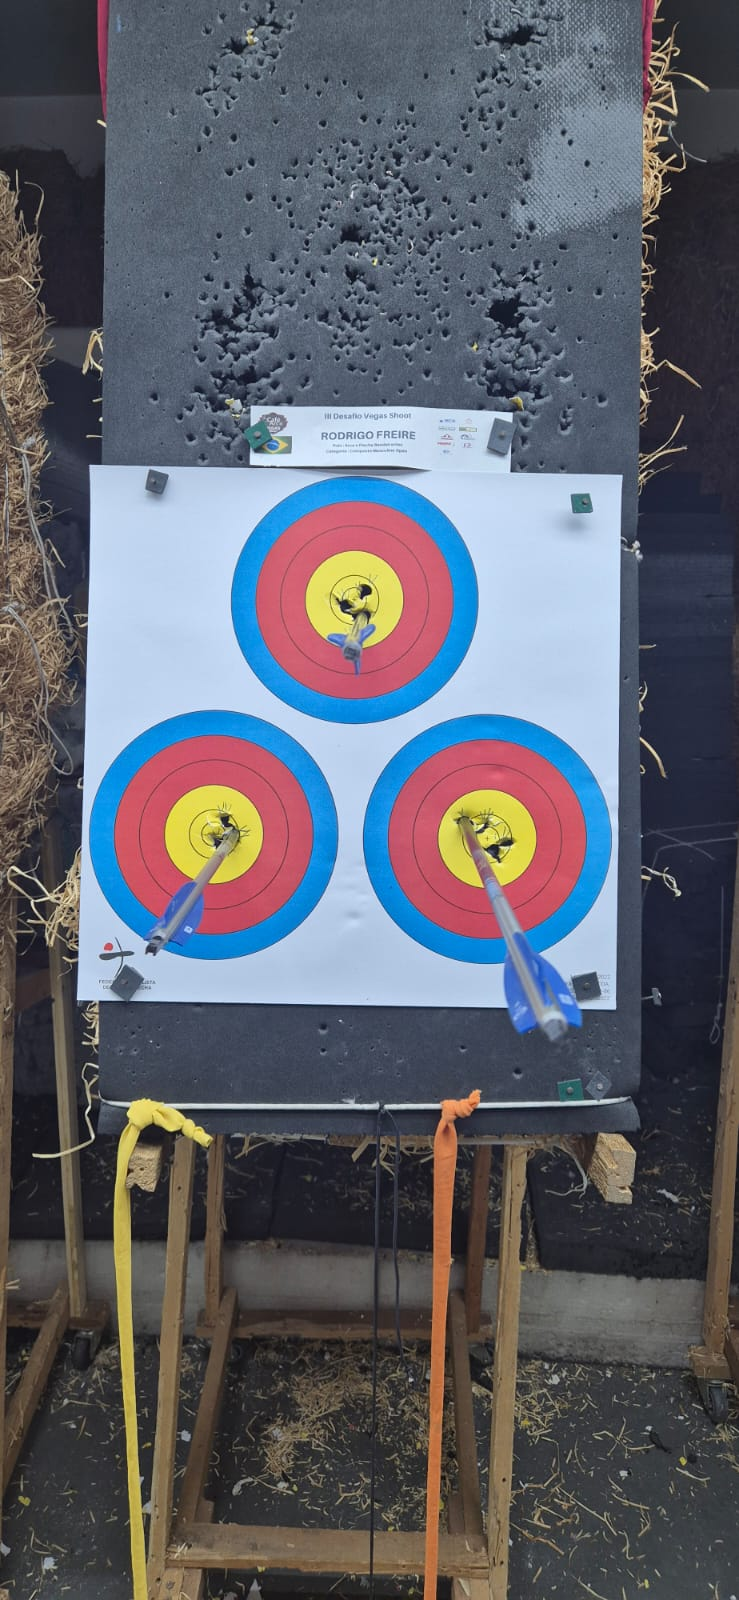9: (377, 715, 611, 968)
9 linha 10: (93, 713, 358, 984), (243, 486, 469, 711)
